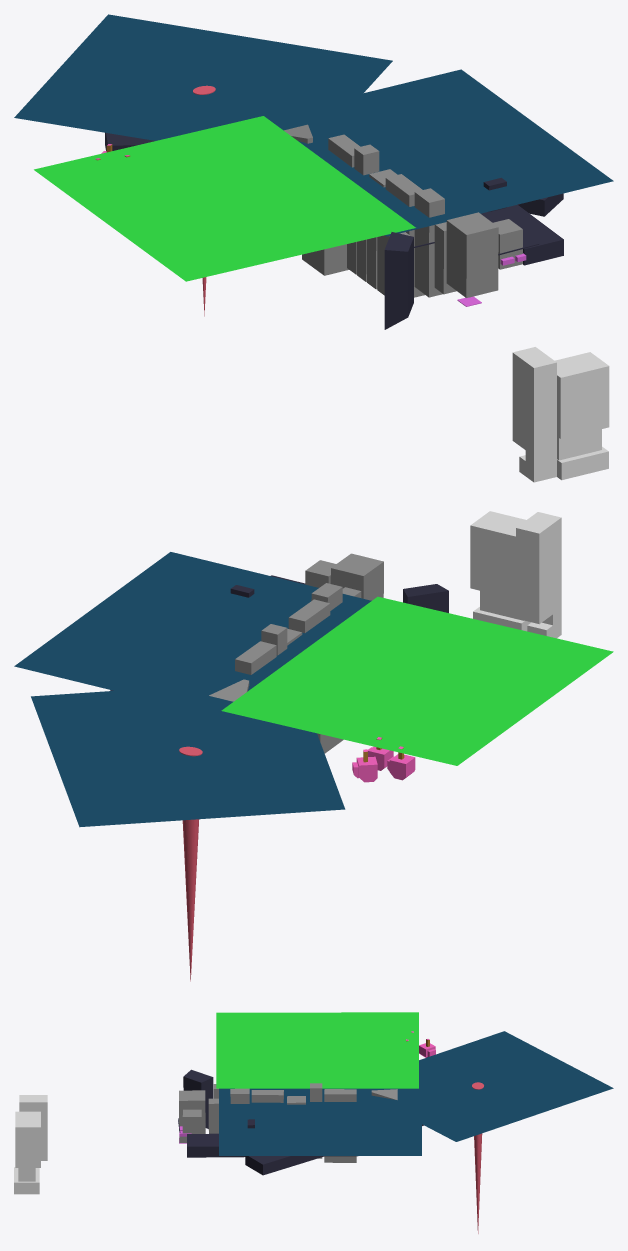
Rendered from lvl2.fbx.
The picture shows the model from 3 angles, top to bottom: view 1: azimuth 30°, elevation 25°; view 2: azimuth 150°, elevation 25°; view 3: azimuth 270°, elevation 25°; orthographic projection. The views are drawn at different scales.
Parts seen in each view (by area): view 1: Plane, Plane.002, Plane.001, Cube, Cube.002, Cube.010, Cube.032, Cube.008, Cube.011, Cube.006, Cube.009; view 2: Plane, Plane.002, Plane.001, Cube, Cube.002, Cube.010, Cone, Cube.032; view 3: Plane, Plane.002, Plane.001, Cube, Cube.002, Cube.013, Cube.008, Cube.010, Cube.032, Cone, Cube.011, Cube.009.
Boxes of the visible parts, x1,y1,x2,y2 form: Plane: (34, 116, 415, 281); Plane.002: (14, 14, 392, 150); Plane.001: (311, 69, 613, 236); Cube: (512, 347, 609, 482); Cube.002: (328, 134, 444, 297); Cube.010: (446, 212, 498, 297); Cube.032: (384, 232, 413, 329); Cube.008: (481, 204, 563, 265); Cube.011: (493, 219, 522, 269); Cube.006: (302, 244, 348, 275); Cube.009: (434, 222, 456, 294); Plane: (221, 596, 613, 765); Plane.002: (31, 681, 345, 827); Plane.001: (14, 552, 371, 690); Cube: (470, 511, 561, 638); Cube.002: (235, 583, 342, 674); Cube.010: (330, 553, 383, 600); Cone: (179, 746, 202, 981); Cube.032: (403, 584, 448, 612); Plane: (216, 1012, 418, 1088); Plane.002: (354, 1031, 613, 1141); Plane.001: (219, 1088, 421, 1155); Cube: (14, 1095, 47, 1194); Cube.002: (230, 1083, 356, 1162); Cube.013: (245, 1124, 423, 1175); Cube.008: (187, 1133, 357, 1157); Cube.010: (179, 1090, 205, 1142); Cube.032: (183, 1069, 213, 1128); Cone: (472, 1082, 483, 1233); Cube.011: (182, 1109, 201, 1140); Cube.009: (208, 1098, 218, 1133).
Size of the model in its own units: 5407 by 2963 by 9839.
